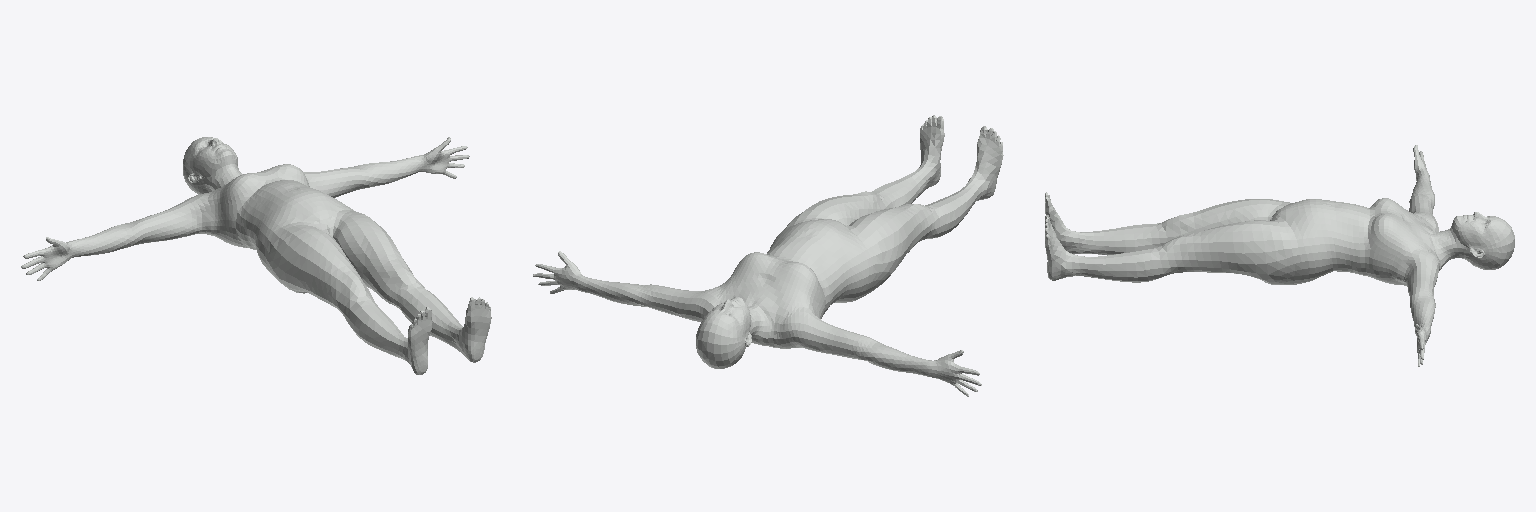
--- What the picture shows (computed from the rendered views, not written in the file) ---
Views: 3 orthographic renders of the robot side by side, from view 1: azimuth 30°, elevation 25°; view 2: azimuth 150°, elevation 25°; view 3: azimuth 270°, elevation 25°.
Model smplx_f_for_unity with 25 links and 24 joints (23 revolute, 1 fixed), rooted at f_avg_root, posed all joints at 0.
Links seen in each view (by area): view 1: f_avg_R_Hip, f_avg_L_Hip, f_avg_Pelvis, f_avg_R_Knee, f_avg_L_Knee, f_avg_Spine2, f_avg_Head, f_avg_R_Shoulder, f_avg_R_Elbow, f_avg_L_Elbow, f_avg_Spine3, f_avg_L_Shoulder (+6 smaller); view 2: f_avg_Spine3, f_avg_Pelvis, f_avg_R_Hip, f_avg_Head, f_avg_Spine1, f_avg_R_Shoulder, f_avg_R_Knee, f_avg_L_Hip, f_avg_L_Shoulder, f_avg_R_Elbow, f_avg_L_Knee, f_avg_Spine2 (+9 smaller); view 3: f_avg_L_Hip, f_avg_Pelvis, f_avg_L_Knee, f_avg_Spine3, f_avg_Head, f_avg_R_Knee, f_avg_R_Hip, f_avg_Spine2, f_avg_Spine1, f_avg_L_Shoulder, f_avg_L_Ankle, f_avg_L_Elbow.
Boxes of the visible links, box(x1,y1,x2,y2) form: f_avg_R_Hip: box(269, 222, 366, 311); f_avg_L_Hip: box(330, 210, 412, 301); f_avg_Pelvis: box(253, 188, 355, 293); f_avg_R_Knee: box(336, 281, 407, 360); f_avg_L_Knee: box(386, 268, 462, 352); f_avg_Spine2: box(228, 164, 309, 248); f_avg_Head: box(183, 137, 238, 194); f_avg_R_Shoulder: box(134, 197, 209, 243); f_avg_R_Elbow: box(69, 221, 144, 257); f_avg_L_Elbow: box(353, 156, 423, 189); f_avg_Spine3: box(203, 164, 284, 247); f_avg_L_Shoulder: box(303, 167, 363, 197); f_avg_Spine3: box(720, 255, 824, 345); f_avg_Pelvis: box(770, 218, 891, 302); f_avg_R_Hip: box(848, 204, 931, 277); f_avg_Head: box(696, 297, 753, 368); f_avg_Spine1: box(767, 229, 847, 309); f_avg_R_Shoulder: box(795, 312, 868, 359); f_avg_R_Knee: box(918, 177, 986, 239); f_avg_L_Hip: box(787, 191, 880, 225); f_avg_L_Shoulder: box(641, 285, 710, 321); f_avg_R_Elbow: box(858, 337, 931, 376); f_avg_L_Knee: box(870, 165, 933, 209); f_avg_Spine2: box(742, 246, 832, 314); f_avg_L_Hip: box(1173, 220, 1289, 281); f_avg_Pelvis: box(1262, 199, 1337, 284); f_avg_L_Knee: box(1066, 237, 1183, 282); f_avg_Spine3: box(1373, 199, 1445, 285); f_avg_Head: box(1450, 212, 1514, 269); f_avg_R_Knee: box(1066, 217, 1180, 254); f_avg_R_Hip: box(1173, 199, 1287, 235); f_avg_Spine2: box(1353, 198, 1392, 277); f_avg_Spine1: box(1324, 200, 1363, 274); f_avg_L_Shoulder: box(1401, 256, 1438, 297); f_avg_L_Ankle: box(1046, 241, 1072, 280); f_avg_L_Elbow: box(1410, 292, 1435, 336).
Bounding box of the posed robot: 1.67 × 1.66 × 0.287 m (x, y, z).
24 mesh visuals loaded from 24 distinct referenced files (24 binary STL).

The robot description file, URDF, robot "smplx_f_for_unity":
<robot name="smplx_f_for_unity">
   <link name="f_avg_root">
       <inertial>
           <origin xyz="0 0 0" rpy="0 0 0" />
           <mass value="0" />
           <inertia ixx="0" ixy="0" ixz="0" iyy="0" iyz="0" izz="0" />
       </inertial></link>
   <link name="f_avg_Pelvis">
       <inertial>
           <origin xyz="0 0 0" rpy="0 0 0" />
           <mass value="1" />
           <inertia ixx="0" ixy="0" ixz="0" iyy="0" iyz="0" izz="0" />
       </inertial>
       <visual>
           <origin xyz="0 0 0" rpy="0 0 0" />
           <geometry><mesh filename="package://smplx_stl_normal/f_avg_Pelvis.stl" /></geometry>
           <material name=""><color rgba="0.827450980392157 0.83921568627451 0.827450980392157 1" /></material>
       </visual>
       <collision>
           <origin xyz="0 0 0" rpy="0 0 0" />
           <geometry><mesh filename="package://smplx_stl_normal/f_avg_Pelvis.stl" /></geometry>
       </collision></link>
   <joint name="f_avg_Pelvis_joint" type="fixed">
       <origin xyz="0 0 0" rpy="0 0 0" />
       <parent link="f_avg_root" />
       <child link="f_avg_Pelvis" />
       <axis xyz="0 1 0" />
       <limit lower="0" upper="0" effort="0" velocity="0" />
   </joint>
   <link name="f_avg_L_Hip">
       <inertial>
           <origin xyz="0 0 0" rpy="0 0 0" />
           <mass value="1" />
           <inertia ixx="0" ixy="0" ixz="0" iyy="0" iyz="0" izz="0" />
       </inertial>
       <visual>
           <origin xyz="0 0 0" rpy="0 0 0" />
           <geometry><mesh filename="package://smplx_stl_normal/f_avg_L_Hip.stl" /></geometry>
           <material name=""><color rgba="0.827450980392157 0.83921568627451 0.827450980392157 1" /></material>
       </visual>
       <collision>
           <origin xyz="0 0 0" rpy="0 0 0" />
           <geometry><mesh filename="package://smplx_stl_normal/f_avg_L_Hip.stl" /></geometry>
       </collision></link>
   <joint name="f_avg_L_Hip_joint" type="revolute">
       <origin xyz="0.07785970719977796 -0.2543636632319788 0.011061973235572684" rpy="0 0 0" />
       <parent link="f_avg_Pelvis" />
       <child link="f_avg_L_Hip" />
       <axis xyz="0 1 0" />
       <limit lower="0" upper="3.141592653589793" effort="0" velocity="0" />
   </joint>
   <link name="f_avg_L_Knee">
       <inertial>
           <origin xyz="0 0 0" rpy="0 0 0" />
           <mass value="1" />
           <inertia ixx="0" ixy="0" ixz="0" iyy="0" iyz="0" izz="0" />
       </inertial>
       <visual>
           <origin xyz="0 0 0" rpy="0 0 0" />
           <geometry><mesh filename="package://smplx_stl_normal/f_avg_L_Knee.stl" /></geometry>
           <material name=""><color rgba="0.827450980392157 0.83921568627451 0.827450980392157 1" /></material>
       </visual>
       <collision>
           <origin xyz="0 0 0" rpy="0 0 0" />
           <geometry><mesh filename="package://smplx_stl_normal/f_avg_L_Knee.stl" /></geometry>
       </collision></link>
   <joint name="f_avg_L_Knee_joint" type="revolute">
       <origin xyz="0.01707470898883963 -0.36599418038187514 -0.053649756891219605" rpy="0 0 0" />
       <parent link="f_avg_L_Hip" />
       <child link="f_avg_L_Knee" />
       <axis xyz="0 1 0" />
       <limit lower="0" upper="3.141592653589793" effort="0" velocity="0" />
   </joint>
   <link name="f_avg_L_Ankle">
       <inertial>
           <origin xyz="0 0 0" rpy="0 0 0" />
           <mass value="1" />
           <inertia ixx="0" ixy="0" ixz="0" iyy="0" iyz="0" izz="0" />
       </inertial>
       <visual>
           <origin xyz="0 0 0" rpy="0 0 0" />
           <geometry><mesh filename="package://smplx_stl_normal/f_avg_L_Ankle.stl" /></geometry>
           <material name=""><color rgba="0.827450980392157 0.83921568627451 0.827450980392157 1" /></material>
       </visual>
       <collision>
           <origin xyz="0 0 0" rpy="0 0 0" />
           <geometry><mesh filename="package://smplx_stl_normal/f_avg_L_Ankle.stl" /></geometry>
       </collision></link>
   <joint name="f_avg_L_Ankle_joint" type="revolute">
       <origin xyz="0.007687709647147087 -0.2544174040915916 0.012453939001501525" rpy="0 0 0" />
       <parent link="f_avg_L_Knee" />
       <child link="f_avg_L_Ankle" />
       <axis xyz="0 1 0" />
       <limit lower="0" upper="3.141592653589793" effort="0" velocity="0" />
   </joint>
   <link name="f_avg_L_Foot">
       <inertial>
           <origin xyz="0 0 0" rpy="0 0 0" />
           <mass value="1" />
           <inertia ixx="0" ixy="0" ixz="0" iyy="0" iyz="0" izz="0" />
       </inertial>
       <visual>
           <origin xyz="0 0 0" rpy="0 0 0" />
           <geometry><mesh filename="package://smplx_stl_normal/f_avg_L_Foot.stl" /></geometry>
           <material name=""><color rgba="0.827450980392157 0.83921568627451 0.827450980392157 1" /></material>
       </visual>
       <collision>
           <origin xyz="0 0 0" rpy="0 0 0" />
           <geometry><mesh filename="package://smplx_stl_normal/f_avg_L_Foot.stl" /></geometry>
       </collision></link>
   <joint name="f_avg_L_Foot_joint" type="revolute">
       <origin xyz="0.01272419648692806 -0.025104036356209128 0.13130926674836602" rpy="0 0 0" />
       <parent link="f_avg_L_Ankle" />
       <child link="f_avg_L_Foot" />
       <axis xyz="0 1 0" />
       <limit lower="0" upper="3.141592653589793" effort="0" velocity="0" />
   </joint>
   <link name="f_avg_R_Hip">
       <inertial>
           <origin xyz="0 0 0" rpy="0 0 0" />
           <mass value="1" />
           <inertia ixx="0" ixy="0" ixz="0" iyy="0" iyz="0" izz="0" />
       </inertial>
       <visual>
           <origin xyz="0 0 0" rpy="0 0 0" />
           <geometry><mesh filename="package://smplx_stl_normal/f_avg_R_Hip.stl" /></geometry>
           <material name=""><color rgba="0.827450980392157 0.83921568627451 0.827450980392157 1" /></material>
       </visual>
       <collision>
           <origin xyz="0 0 0" rpy="0 0 0" />
           <geometry><mesh filename="package://smplx_stl_normal/f_avg_R_Hip.stl" /></geometry>
       </collision></link>
   <joint name="f_avg_R_Hip_joint" type="revolute">
       <origin xyz="-0.07639947838253348 -0.25468859340453687 0.009515017928465085" rpy="0 0 0" />
       <parent link="f_avg_Pelvis" />
       <child link="f_avg_R_Hip" />
       <axis xyz="0 1 0" />
       <limit lower="0" upper="3.141592653589793" effort="0" velocity="0" />
   </joint>
   <link name="f_avg_R_Knee">
       <inertial>
           <origin xyz="0 0 0" rpy="0 0 0" />
           <mass value="1" />
           <inertia ixx="0" ixy="0" ixz="0" iyy="0" iyz="0" izz="0" />
       </inertial>
       <visual>
           <origin xyz="0 0 0" rpy="0 0 0" />
           <geometry><mesh filename="package://smplx_stl_normal/f_avg_R_Knee.stl" /></geometry>
           <material name=""><color rgba="0.827450980392157 0.83921568627451 0.827450980392157 1" /></material>
       </visual>
       <collision>
           <origin xyz="0 0 0" rpy="0 0 0" />
           <geometry><mesh filename="package://smplx_stl_normal/f_avg_R_Knee.stl" /></geometry>
       </collision></link>
   <joint name="f_avg_R_Knee_joint" type="revolute">
       <origin xyz="-0.018491082906326464 -0.3653480339931006 -0.05213707635888676" rpy="0 0 0" />
       <parent link="f_avg_R_Hip" />
       <child link="f_avg_R_Knee" />
       <axis xyz="0 1 0" />
       <limit lower="0" upper="3.141592653589793" effort="0" velocity="0" />
   </joint>
   <link name="f_avg_R_Ankle">
       <inertial>
           <origin xyz="0 0 0" rpy="0 0 0" />
           <mass value="1" />
           <inertia ixx="0" ixy="0" ixz="0" iyy="0" iyz="0" izz="0" />
       </inertial>
       <visual>
           <origin xyz="0 0 0" rpy="0 0 0" />
           <geometry><mesh filename="package://smplx_stl_normal/f_avg_R_Ankle.stl" /></geometry>
           <material name=""><color rgba="0.827450980392157 0.83921568627451 0.827450980392157 1" /></material>
       </visual>
       <collision>
           <origin xyz="0 0 0" rpy="0 0 0" />
           <geometry><mesh filename="package://smplx_stl_normal/f_avg_R_Ankle.stl" /></geometry>
       </collision></link>
   <joint name="f_avg_R_Ankle_joint" type="revolute">
       <origin xyz="-0.007273292042042093 -0.2540918772522524 0.016340304054054053" rpy="0 0 0" />
       <parent link="f_avg_R_Knee" />
       <child link="f_avg_R_Ankle" />
       <axis xyz="0 1 0" />
       <limit lower="0" upper="3.141592653589793" effort="0" velocity="0" />
   </joint>
   <link name="f_avg_R_Foot">
       <inertial>
           <origin xyz="0 0 0" rpy="0 0 0" />
           <mass value="1" />
           <inertia ixx="0" ixy="0" ixz="0" iyy="0" iyz="0" izz="0" />
       </inertial>
       <visual>
           <origin xyz="0 0 0" rpy="0 0 0" />
           <geometry><mesh filename="package://smplx_stl_normal/f_avg_R_Foot.stl" /></geometry>
           <material name=""><color rgba="0.827450980392157 0.83921568627451 0.827450980392157 1" /></material>
       </visual>
       <collision>
           <origin xyz="0 0 0" rpy="0 0 0" />
           <geometry><mesh filename="package://smplx_stl_normal/f_avg_R_Foot.stl" /></geometry>
       </collision></link>
   <joint name="f_avg_R_Foot_joint" type="revolute">
       <origin xyz="-0.011502875816993413 -0.026503220588235305 0.13183228676470593" rpy="0 0 0" />
       <parent link="f_avg_R_Ankle" />
       <child link="f_avg_R_Foot" />
       <axis xyz="0 1 0" />
       <limit lower="0" upper="3.141592653589793" effort="0" velocity="0" />
   </joint>
   <link name="f_avg_Spine1">
       <inertial>
           <origin xyz="0 0 0" rpy="0 0 0" />
           <mass value="1" />
           <inertia ixx="0" ixy="0" ixz="0" iyy="0" iyz="0" izz="0" />
       </inertial>
       <visual>
           <origin xyz="0 0 0" rpy="0 0 0" />
           <geometry><mesh filename="package://smplx_stl_normal/f_avg_Spine1.stl" /></geometry>
           <material name=""><color rgba="0.827450980392157 0.83921568627451 0.827450980392157 1" /></material>
       </visual>
       <collision>
           <origin xyz="0 0 0" rpy="0 0 0" />
           <geometry><mesh filename="package://smplx_stl_normal/f_avg_Spine1.stl" /></geometry>
       </collision></link>
   <joint name="f_avg_Spine1_joint" type="revolute">
       <origin xyz="0.00010098780517787877 0.14992921772838796 0.014098467533744765" rpy="0 0 0" />
       <parent link="f_avg_Pelvis" />
       <child link="f_avg_Spine1" />
       <axis xyz="0 1 0" />
       <limit lower="0" upper="3.141592653589793" effort="0" velocity="0" />
   </joint>
   <link name="f_avg_Spine2">
       <inertial>
           <origin xyz="0 0 0" rpy="0 0 0" />
           <mass value="1" />
           <inertia ixx="0" ixy="0" ixz="0" iyy="0" iyz="0" izz="0" />
       </inertial>
       <visual>
           <origin xyz="0 0 0" rpy="0 0 0" />
           <geometry><mesh filename="package://smplx_stl_normal/f_avg_Spine2.stl" /></geometry>
           <material name=""><color rgba="0.827450980392157 0.83921568627451 0.827450980392157 1" /></material>
       </visual>
       <collision>
           <origin xyz="0 0 0" rpy="0 0 0" />
           <geometry><mesh filename="package://smplx_stl_normal/f_avg_Spine2.stl" /></geometry>
       </collision></link>
   <joint name="f_avg_Spine2_joint" type="revolute">
       <origin xyz="0.001850607091330434 0.09247726448942695 0.03144622458794209" rpy="0 0 0" />
       <parent link="f_avg_Spine1" />
       <child link="f_avg_Spine2" />
       <axis xyz="0 1 0" />
       <limit lower="0" upper="3.141592653589793" effort="0" velocity="0" />
   </joint>
   <link name="f_avg_Spine3">
       <inertial>
           <origin xyz="0 0 0" rpy="0 0 0" />
           <mass value="1" />
           <inertia ixx="0" ixy="0" ixz="0" iyy="0" iyz="0" izz="0" />
       </inertial>
       <visual>
           <origin xyz="0 0 0" rpy="0 0 0" />
           <geometry><mesh filename="package://smplx_stl_normal/f_avg_Spine3.stl" /></geometry>
           <material name=""><color rgba="0.827450980392157 0.83921568627451 0.827450980392157 1" /></material>
       </visual>
       <collision>
           <origin xyz="0 0 0" rpy="0 0 0" />
           <geometry><mesh filename="package://smplx_stl_normal/f_avg_Spine3.stl" /></geometry>
       </collision></link>
   <joint name="f_avg_Spine3_joint" type="revolute">
       <origin xyz="-0.0003665883916060647 0.12654608146084767 -0.06205949133306165" rpy="0 0 0" />
       <parent link="f_avg_Spine2" />
       <child link="f_avg_Spine3" />
       <axis xyz="0 1 0" />
       <limit lower="0" upper="3.141592653589793" effort="0" velocity="0" />
   </joint>
   <link name="f_avg_Neck">
       <inertial>
           <origin xyz="0 0 0" rpy="0 0 0" />
           <mass value="1" />
           <inertia ixx="0" ixy="0" ixz="0" iyy="0" iyz="0" izz="0" />
       </inertial>
       <visual>
           <origin xyz="0 0 0" rpy="0 0 0" />
           <geometry><mesh filename="package://smplx_stl_normal/f_avg_Neck.stl" /></geometry>
           <material name=""><color rgba="0.827450980392157 0.83921568627451 0.827450980392157 1" /></material>
       </visual>
       <collision>
           <origin xyz="0 0 0" rpy="0 0 0" />
           <geometry><mesh filename="package://smplx_stl_normal/f_avg_Neck.stl" /></geometry>
       </collision></link>
   <joint name="f_avg_Neck_joint" type="revolute">
       <origin xyz="-0.00039202784346708706 0.14198288080937793 0.007753725869489936" rpy="0 0 0" />
       <parent link="f_avg_Spine3" />
       <child link="f_avg_Neck" />
       <axis xyz="0 1 0" />
       <limit lower="0" upper="3.141592653589793" effort="0" velocity="0" />
   </joint>
   <link name="f_avg_Head">
       <inertial>
           <origin xyz="0 0 0" rpy="0 0 0" />
           <mass value="1" />
           <inertia ixx="0" ixy="0" ixz="0" iyy="0" iyz="0" izz="0" />
       </inertial>
       <visual>
           <origin xyz="0 0 0" rpy="0 0 0" />
           <geometry><mesh filename="package://smplx_stl_normal/f_avg_Head.stl" /></geometry>
           <material name=""><color rgba="0.827450980392157 0.83921568627451 0.827450980392157 1" /></material>
       </visual>
       <collision>
           <origin xyz="0 0 0" rpy="0 0 0" />
           <geometry><mesh filename="package://smplx_stl_normal/f_avg_Head.stl" /></geometry>
       </collision></link>
   <joint name="f_avg_Head_joint" type="revolute">
       <origin xyz="-0.0012644804597700934 0.10361500591133077 0.04879245402298857" rpy="0 0 0" />
       <parent link="f_avg_Neck" />
       <child link="f_avg_Head" />
       <axis xyz="0 1 0" />
       <limit lower="0" upper="3.141592653589793" effort="0" velocity="0" />
   </joint>
   <link name="f_avg_L_Collar">
       <inertial>
           <origin xyz="0 0 0" rpy="0 0 0" />
           <mass value="1" />
           <inertia ixx="0" ixy="0" ixz="0" iyy="0" iyz="0" izz="0" />
       </inertial>
       <visual>
           <origin xyz="0 0 0" rpy="0 0 0" />
           <geometry><mesh filename="package://smplx_stl_normal/f_avg_L_Collar.stl" /></geometry>
           <material name=""><color rgba="0.827450980392157 0.83921568627451 0.827450980392157 1" /></material>
       </visual>
       <collision>
           <origin xyz="0 0 0" rpy="0 0 0" />
           <geometry><mesh filename="package://smplx_stl_normal/f_avg_L_Collar.stl" /></geometry>
       </collision></link>
   <joint name="f_avg_L_Collar_joint" type="revolute">
       <origin xyz="0.14085290048165613 0.06116842095716213 -0.03189504087927856" rpy="0 0 0" />
       <parent link="f_avg_Spine3" />
       <child link="f_avg_L_Collar" />
       <axis xyz="0 1 0" />
       <limit lower="0" upper="3.141592653589793" effort="0" velocity="0" />
   </joint>
   <link name="f_avg_L_Shoulder">
       <inertial>
           <origin xyz="0 0 0" rpy="0 0 0" />
           <mass value="1" />
           <inertia ixx="0" ixy="0" ixz="0" iyy="0" iyz="0" izz="0" />
       </inertial>
       <visual>
           <origin xyz="0 0 0" rpy="0 0 0" />
           <geometry><mesh filename="package://smplx_stl_normal/f_avg_L_Shoulder.stl" /></geometry>
           <material name=""><color rgba="0.827450980392157 0.83921568627451 0.827450980392157 1" /></material>
       </visual>
       <collision>
           <origin xyz="0 0 0" rpy="0 0 0" />
           <geometry><mesh filename="package://smplx_stl_normal/f_avg_L_Shoulder.stl" /></geometry>
       </collision></link>
   <joint name="f_avg_L_Shoulder_joint" type="revolute">
       <origin xyz="0.14099214241507663 -0.01902793268962455 0.003790268939041424" rpy="0 0 0" />
       <parent link="f_avg_L_Collar" />
       <child link="f_avg_L_Shoulder" />
       <axis xyz="0 1 0" />
       <limit lower="0" upper="3.141592653589793" effort="0" velocity="0" />
   </joint>
   <link name="f_avg_L_Elbow">
       <inertial>
           <origin xyz="0 0 0" rpy="0 0 0" />
           <mass value="1" />
           <inertia ixx="0" ixy="0" ixz="0" iyy="0" iyz="0" izz="0" />
       </inertial>
       <visual>
           <origin xyz="0 0 0" rpy="0 0 0" />
           <geometry><mesh filename="package://smplx_stl_normal/f_avg_L_Elbow.stl" /></geometry>
           <material name=""><color rgba="0.827450980392157 0.83921568627451 0.827450980392157 1" /></material>
       </visual>
       <collision>
           <origin xyz="0 0 0" rpy="0 0 0" />
           <geometry><mesh filename="package://smplx_stl_normal/f_avg_L_Elbow.stl" /></geometry>
       </collision></link>
   <joint name="f_avg_L_Elbow_joint" type="revolute">
       <origin xyz="0.24435600568760185 0.010698818403910515 -0.00504579650600567" rpy="0 0 0" />
       <parent link="f_avg_L_Shoulder" />
       <child link="f_avg_L_Elbow" />
       <axis xyz="0 1 0" />
       <limit lower="0" upper="3.141592653589793" effort="0" velocity="0" />
   </joint>
   <link name="f_avg_L_Wrist">
       <inertial>
           <origin xyz="0 0 0" rpy="0 0 0" />
           <mass value="1" />
           <inertia ixx="0" ixy="0" ixz="0" iyy="0" iyz="0" izz="0" />
       </inertial>
       <visual>
           <origin xyz="0 0 0" rpy="0 0 0" />
           <geometry><mesh filename="package://smplx_stl_normal/f_avg_L_Wrist.stl" /></geometry>
           <material name=""><color rgba="0.827450980392157 0.83921568627451 0.827450980392157 1" /></material>
       </visual>
       <collision>
           <origin xyz="0 0 0" rpy="0 0 0" />
           <geometry><mesh filename="package://smplx_stl_normal/f_avg_L_Wrist.stl" /></geometry>
       </collision></link>
   <joint name="f_avg_L_Wrist_joint" type="revolute">
       <origin xyz="0.18141500915727404 -0.011628677868853687 0.01648911737961062" rpy="0 0 0" />
       <parent link="f_avg_L_Elbow" />
       <child link="f_avg_L_Wrist" />
       <axis xyz="0 1 0" />
       <limit lower="0" upper="3.141592653589793" effort="0" velocity="0" />
   </joint>
   <link name="f_avg_L_Hand">
       <inertial>
           <origin xyz="0 0 0" rpy="0 0 0" />
           <mass value="1" />
           <inertia ixx="0" ixy="0" ixz="0" iyy="0" iyz="0" izz="0" />
       </inertial>
       <visual>
           <origin xyz="0 0 0" rpy="0 0 0" />
           <geometry><mesh filename="package://smplx_stl_normal/f_avg_L_Hand.stl" /></geometry>
           <material name=""><color rgba="0.827450980392157 0.83921568627451 0.827450980392157 1" /></material>
       </visual>
       <collision>
           <origin xyz="0 0 0" rpy="0 0 0" />
           <geometry><mesh filename="package://smplx_stl_normal/f_avg_L_Hand.stl" /></geometry>
       </collision></link>
   <joint name="f_avg_L_Hand_joint" type="revolute">
       <origin xyz="0.0740662533503107 0.004793970587299912 -0.037440068661467416" rpy="0 0 0" />
       <parent link="f_avg_L_Wrist" />
       <child link="f_avg_L_Hand" />
       <axis xyz="0 1 0" />
       <limit lower="0" upper="3.141592653589793" effort="0" velocity="0" />
   </joint>
   <link name="f_avg_R_Collar">
       <inertial>
           <origin xyz="0 0 0" rpy="0 0 0" />
           <mass value="1" />
           <inertia ixx="0" ixy="0" ixz="0" iyy="0" iyz="0" izz="0" />
       </inertial>
       <visual>
           <origin xyz="0 0 0" rpy="0 0 0" />
           <geometry><mesh filename="package://smplx_stl_normal/f_avg_R_Collar.stl" /></geometry>
           <material name=""><color rgba="0.827450980392157 0.83921568627451 0.827450980392157 1" /></material>
       </visual>
       <collision>
           <origin xyz="0 0 0" rpy="0 0 0" />
           <geometry><mesh filename="package://smplx_stl_normal/f_avg_R_Collar.stl" /></geometry>
       </collision></link>
   <joint name="f_avg_R_Collar_joint" type="revolute">
       <origin xyz="-0.13829972094691537 0.05979747810001923 -0.03508551945070709" rpy="0 0 0" />
       <parent link="f_avg_Spine3" />
       <child link="f_avg_R_Collar" />
       <axis xyz="0 1 0" />
       <limit lower="0" upper="3.141592653589793" effort="0" velocity="0" />
   </joint>
   <link name="f_avg_R_Shoulder">
       <inertial>
           <origin xyz="0 0 0" rpy="0 0 0" />
           <mass value="1" />
           <inertia ixx="0" ixy="0" ixz="0" iyy="0" iyz="0" izz="0" />
       </inertial>
       <visual>
           <origin xyz="0 0 0" rpy="0 0 0" />
           <geometry><mesh filename="package://smplx_stl_normal/f_avg_R_Shoulder.stl" /></geometry>
           <material name=""><color rgba="0.827450980392157 0.83921568627451 0.827450980392157 1" /></material>
       </visual>
       <collision>
           <origin xyz="0 0 0" rpy="0 0 0" />
           <geometry><mesh filename="package://smplx_stl_normal/f_avg_R_Shoulder.stl" /></geometry>
       </collision></link>
   <joint name="f_avg_R_Shoulder_joint" type="revolute">
       <origin xyz="-0.14471424509803937 -0.020104663258637467 0.003633860037348245" rpy="0 0 0" />
       <parent link="f_avg_R_Collar" />
       <child link="f_avg_R_Shoulder" />
       <axis xyz="0 1 0" />
       <limit lower="0" upper="3.141592653589793" effort="0" velocity="0" />
   </joint>
   <link name="f_avg_R_Elbow">
       <inertial>
           <origin xyz="0 0 0" rpy="0 0 0" />
           <mass value="1" />
           <inertia ixx="0" ixy="0" ixz="0" iyy="0" iyz="0" izz="0" />
       </inertial>
       <visual>
           <origin xyz="0 0 0" rpy="0 0 0" />
           <geometry><mesh filename="package://smplx_stl_normal/f_avg_R_Elbow.stl" /></geometry>
           <material name=""><color rgba="0.827450980392157 0.83921568627451 0.827450980392157 1" /></material>
       </visual>
       <collision>
           <origin xyz="0 0 0" rpy="0 0 0" />
           <geometry><mesh filename="package://smplx_stl_normal/f_avg_R_Elbow.stl" /></geometry>
       </collision></link>
   <joint name="f_avg_R_Elbow_joint" type="revolute">
       <origin xyz="-0.2431619580269604 0.010967776986315236 -0.004094315282884002" rpy="0 0 0" />
       <parent link="f_avg_R_Shoulder" />
       <child link="f_avg_R_Elbow" />
       <axis xyz="0 1 0" />
       <limit lower="0" upper="3.141592653589793" effort="0" velocity="0" />
   </joint>
   <link name="f_avg_R_Wrist">
       <inertial>
           <origin xyz="0 0 0" rpy="0 0 0" />
           <mass value="1" />
           <inertia ixx="0" ixy="0" ixz="0" iyy="0" iyz="0" izz="0" />
       </inertial>
       <visual>
           <origin xyz="0 0 0" rpy="0 0 0" />
           <geometry><mesh filename="package://smplx_stl_normal/f_avg_R_Wrist.stl" /></geometry>
           <material name=""><color rgba="0.827450980392157 0.83921568627451 0.827450980392157 1" /></material>
       </visual>
       <collision>
           <origin xyz="0 0 0" rpy="0 0 0" />
           <geometry><mesh filename="package://smplx_stl_normal/f_avg_R_Wrist.stl" /></geometry>
       </collision></link>
   <joint name="f_avg_R_Wrist_joint" type="revolute">
       <origin xyz="-0.18362666736680344 -0.011993638434939058 0.016527244941086077" rpy="0 0 0" />
       <parent link="f_avg_R_Elbow" />
       <child link="f_avg_R_Wrist" />
       <axis xyz="0 1 0" />
       <limit lower="0" upper="3.141592653589793" effort="0" velocity="0" />
   </joint>
   <link name="f_avg_R_Hand">
       <inertial>
           <origin xyz="0 0 0" rpy="0 0 0" />
           <mass value="1" />
           <inertia ixx="0" ixy="0" ixz="0" iyy="0" iyz="0" izz="0" />
       </inertial>
       <visual>
           <origin xyz="0 0 0" rpy="0 0 0" />
           <geometry><mesh filename="package://smplx_stl_normal/f_avg_R_Hand.stl" /></geometry>
           <material name=""><color rgba="0.827450980392157 0.83921568627451 0.827450980392157 1" /></material>
       </visual>
       <collision>
           <origin xyz="0 0 0" rpy="0 0 0" />
           <geometry><mesh filename="package://smplx_stl_normal/f_avg_R_Hand.stl" /></geometry>
       </collision></link>
   <joint name="f_avg_R_Hand_joint" type="revolute">
       <origin xyz="-0.07455958096450754 0.004839888715581386 -0.03861083269138947" rpy="0 0 0" />
       <parent link="f_avg_R_Wrist" />
       <child link="f_avg_R_Hand" />
       <axis xyz="0 1 0" />
       <limit lower="0" upper="3.141592653589793" effort="0" velocity="0" />
   </joint>
</robot>
